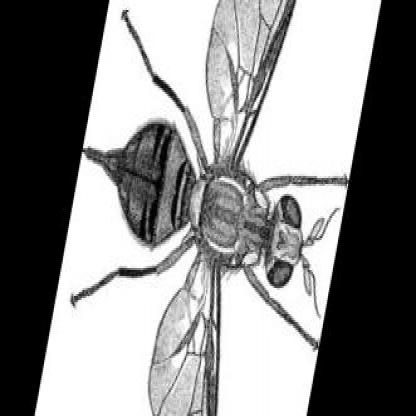fruit fly: (72, 1, 349, 414)
